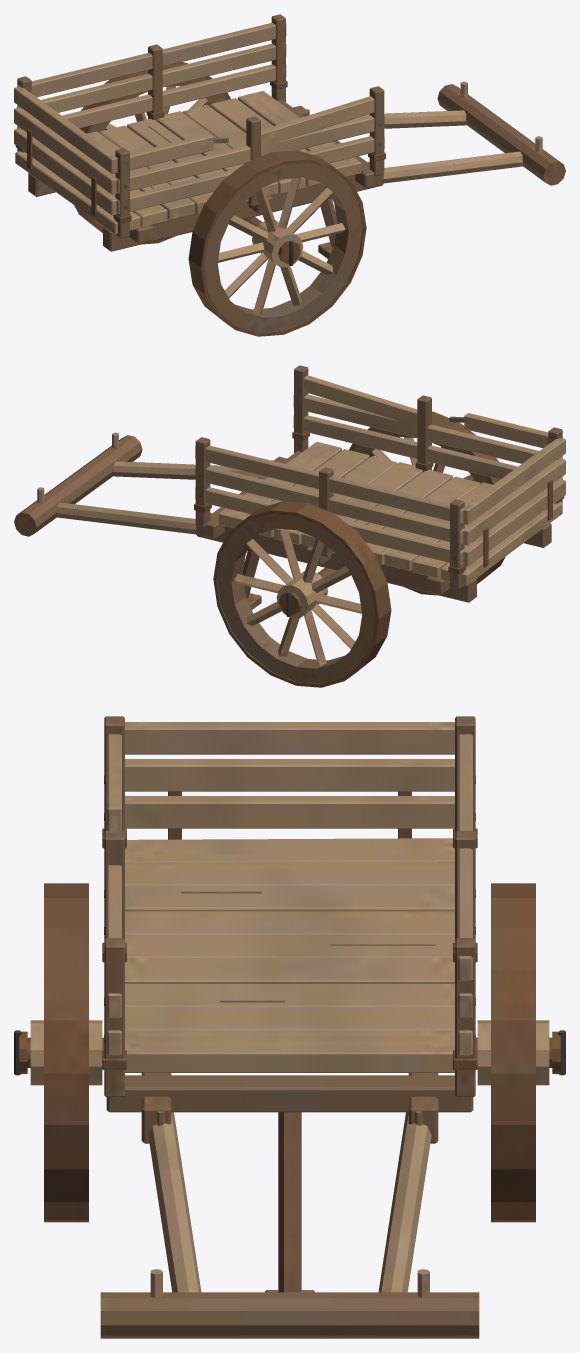
The model's file is CV18_bullock_cart.glb.
The picture shows the model from 3 angles, top to bottom: view 1: azimuth 30°, elevation 25°; view 2: azimuth 150°, elevation 25°; view 3: azimuth 270°, elevation 25°; orthographic projection. The views are drawn at different scales.
Parts seen in each view (by area): view 1: Exposed iron axle; view 2: Exposed iron axle; view 3: Exposed iron axle.
Boxes of the visible parts, x1,y1,x2,y2 form: Exposed iron axle: (14, 14, 565, 336); Exposed iron axle: (14, 365, 565, 687); Exposed iron axle: (14, 716, 565, 1338).
Size of the model in its own units: 3 by 1.29 by 1.78.
5 materials, 5 textured.
